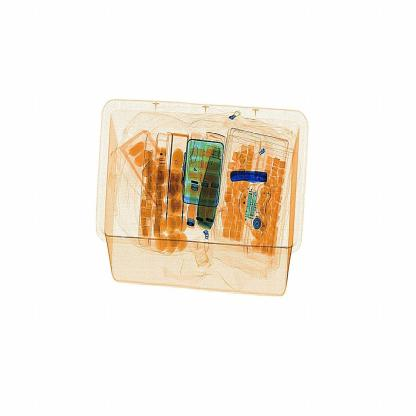knife: (228, 156, 277, 185)
